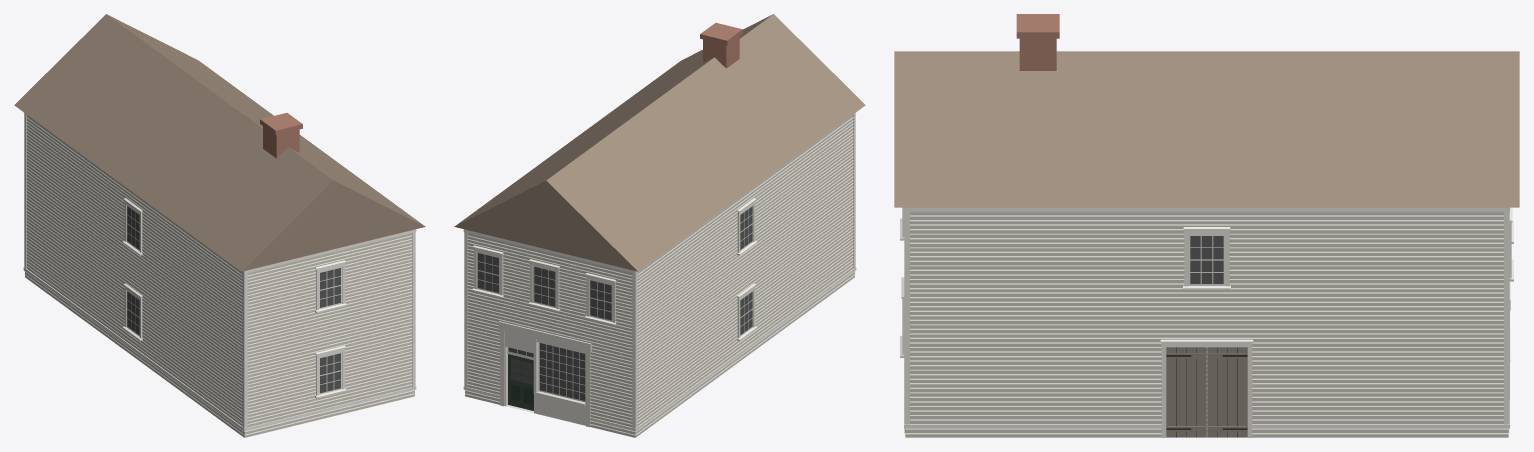
File: recon_1835_north_c3_066__inferred_1835.glb
3 renders of one model, left to right at view 1: azimuth 30°, elevation 25°; view 2: azimuth 150°, elevation 25°; view 3: azimuth 270°, elevation 25°, orthographic. The views are drawn at different scales.
Parts seen in each view (by area): view 1: recon_1835_north_c3_066__inferred_1835; view 2: recon_1835_north_c3_066__inferred_1835; view 3: recon_1835_north_c3_066__inferred_1835.
Part boxes in pixels (x1,y1,x2,y2): recon_1835_north_c3_066__inferred_1835: [14, 14, 425, 437]; recon_1835_north_c3_066__inferred_1835: [454, 14, 865, 437]; recon_1835_north_c3_066__inferred_1835: [894, 14, 1519, 437].
Size of the model in its own units: 6.66 by 8.98 by 14.24.
